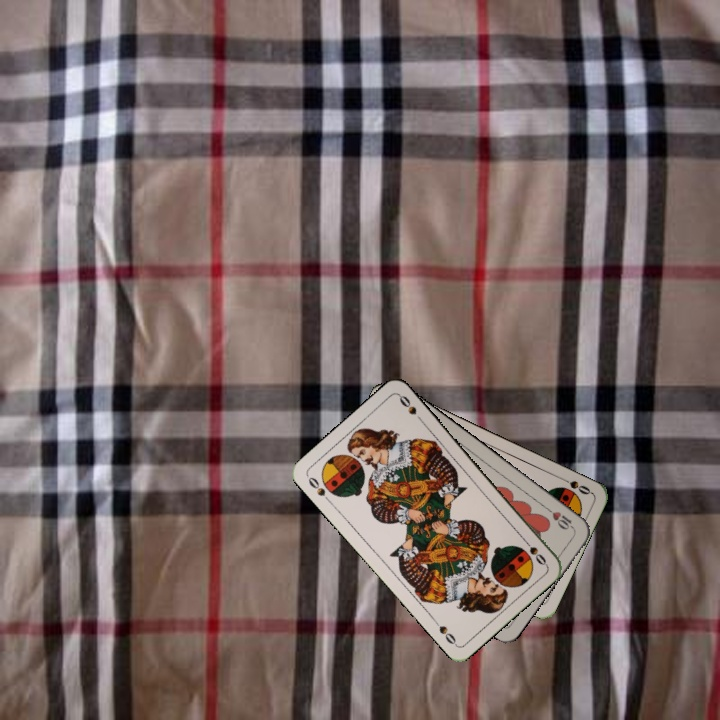H10: (542, 503, 577, 533)
SO: (518, 534, 549, 568), (303, 473, 334, 506), (556, 472, 594, 497)
